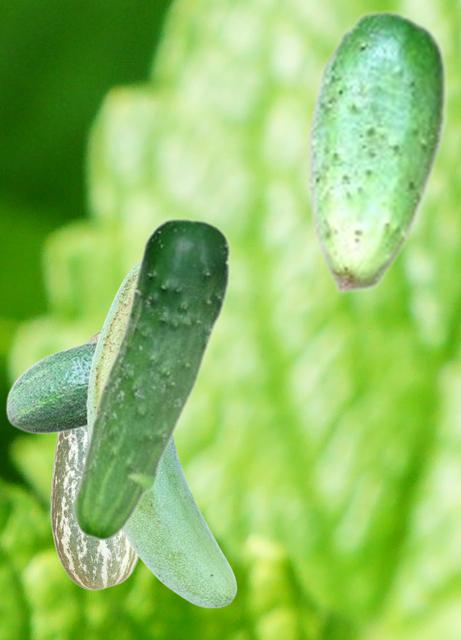cucumber: (86, 261, 236, 607), (71, 217, 231, 541), (306, 8, 446, 294), (50, 330, 138, 589), (5, 337, 97, 433)
